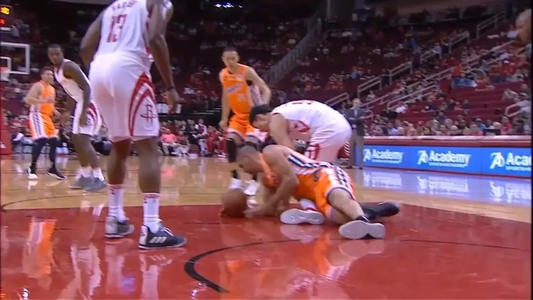10+: (1, 1, 533, 254)
down: (239, 146, 384, 243), (220, 170, 400, 227)
